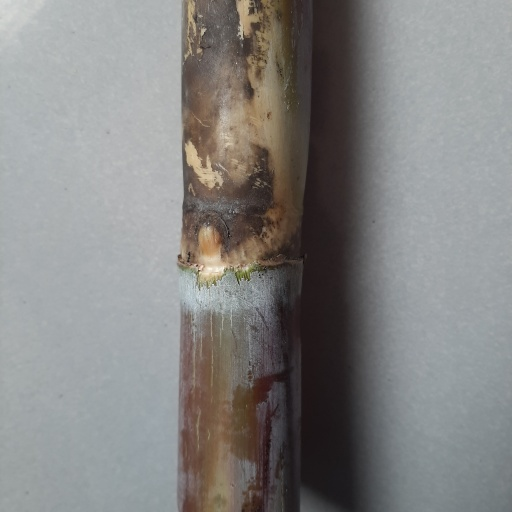Bud: (194, 221, 222, 256)
